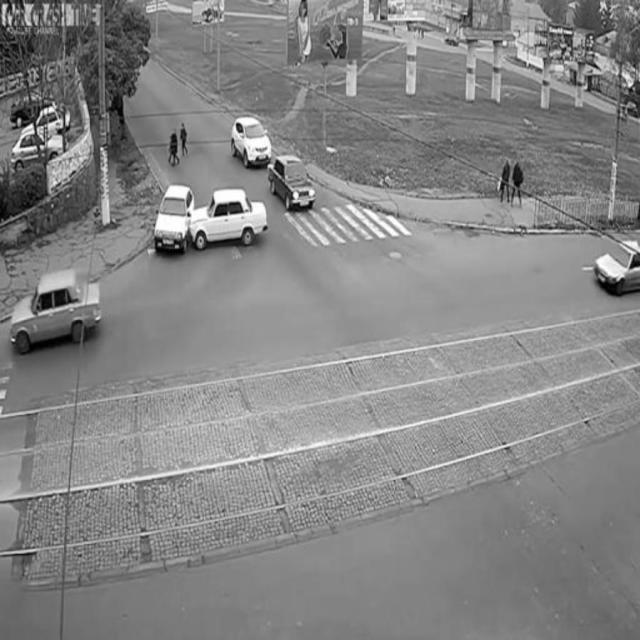accident: (157, 179, 265, 249)
person: (164, 119, 192, 174), (501, 149, 525, 210)
vehicle: (4, 269, 108, 345), (269, 155, 317, 216), (9, 127, 73, 167), (228, 114, 272, 168), (594, 241, 640, 291)
